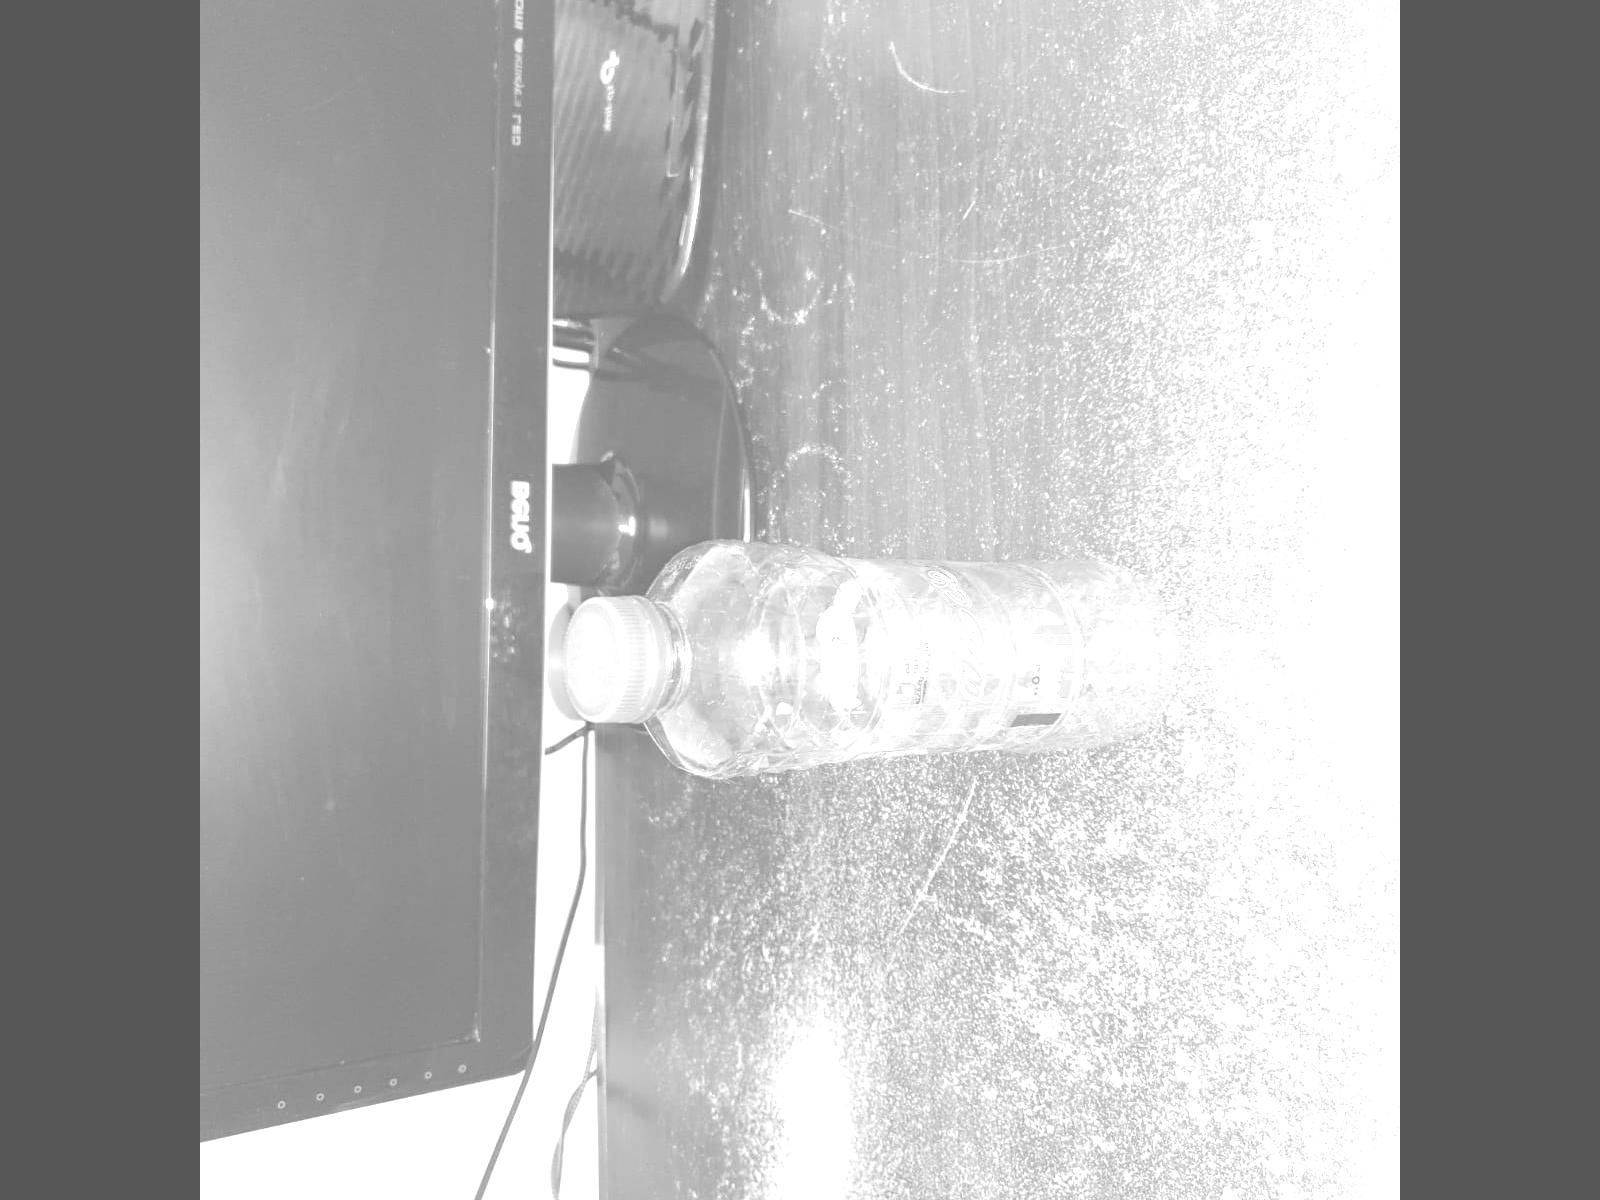bottle: (558, 521, 1184, 785)
